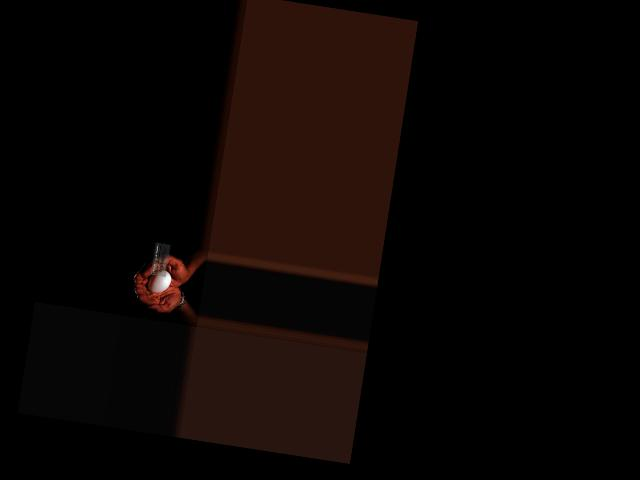egg: (146, 269, 171, 295)
